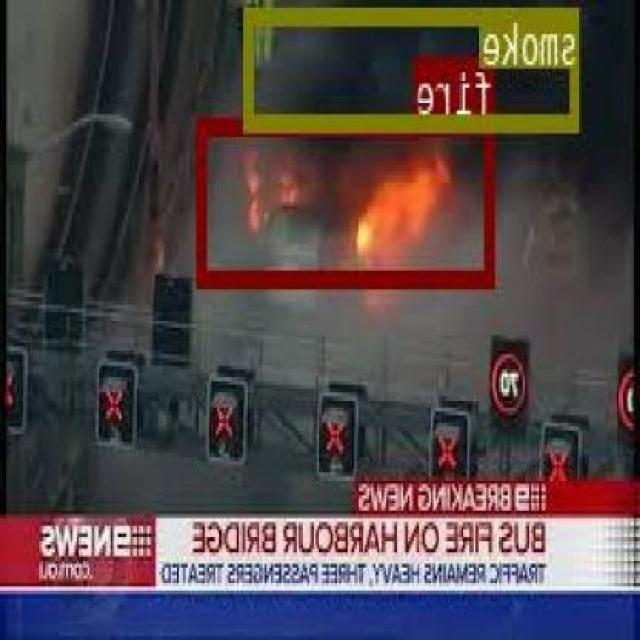Fire: (198, 117, 496, 283)
Smoke: (245, 6, 580, 128)
